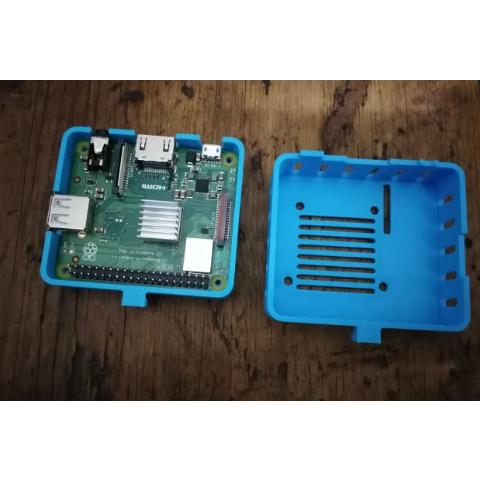Raspberry-Pi-3-Model-A-: (38, 121, 248, 301)
